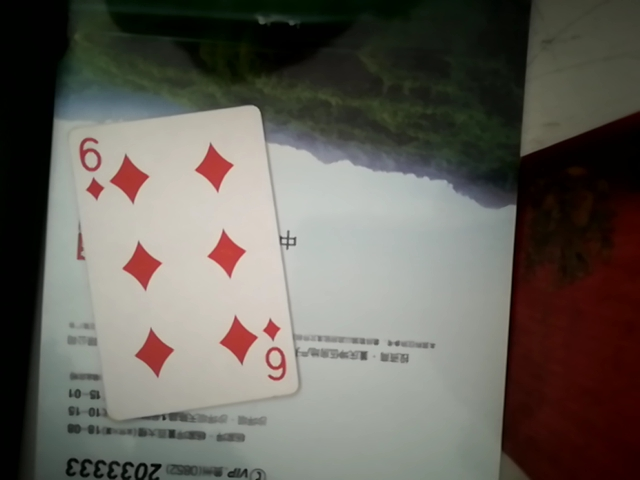fk 6: (59, 96, 299, 432)
